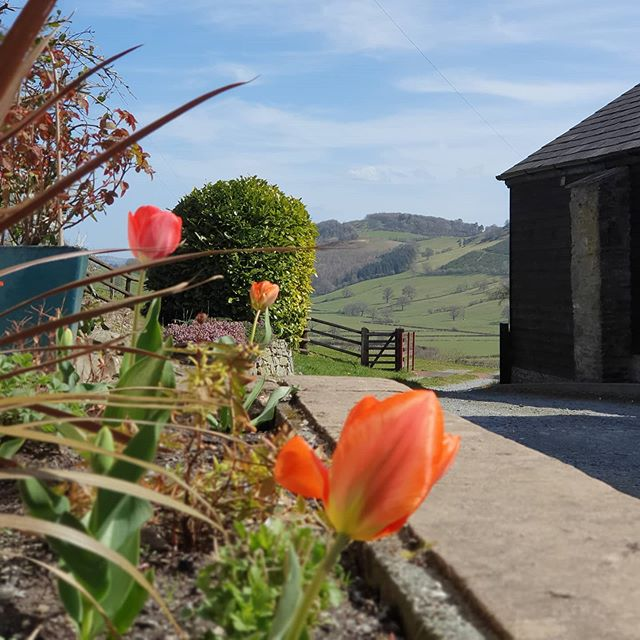building: (494, 41, 640, 394)
flowers: (87, 193, 480, 563)
sky: (116, 1, 640, 217)
tree: (136, 163, 319, 360)
